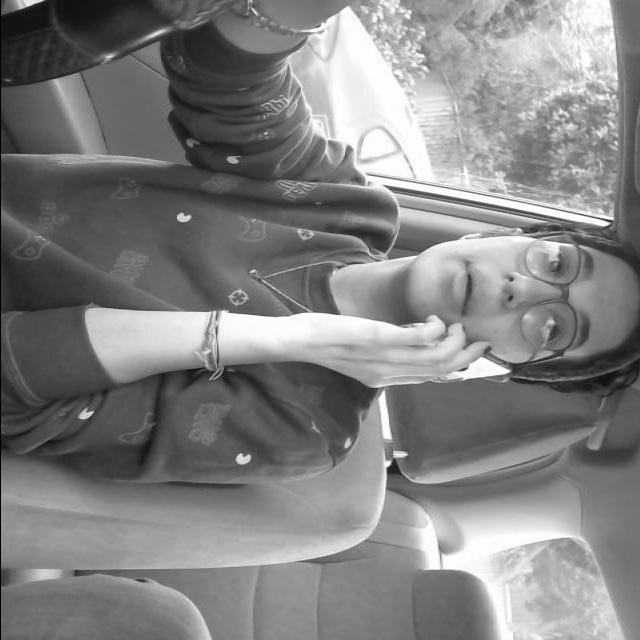mobile use: (370, 315, 518, 387)
